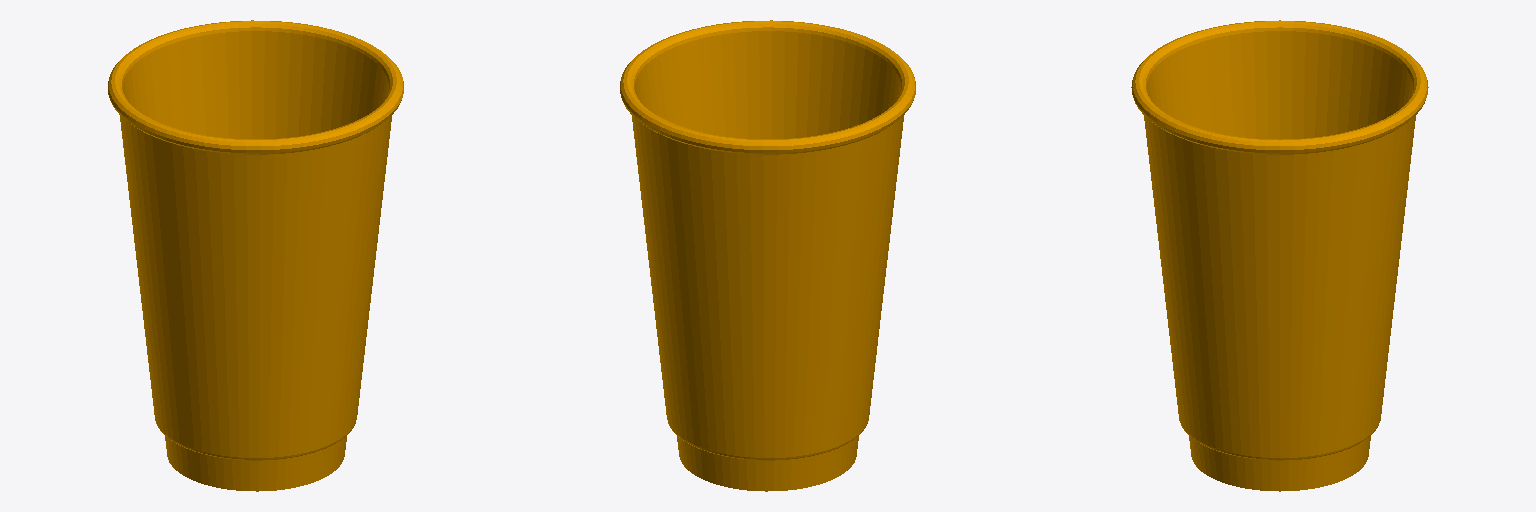
robot.urdf — mesh_object:
<?xml version="1.0" ?>
<robot name="mesh_object">
  <link name="base">
    <visual>
      <geometry>
        <mesh filename="Dixie_cup_0.obj" scale="1 1 1"/>
      </geometry>
    </visual>
    <collision>
      <geometry>
        <mesh filename="Dixie_cup_0.obj" scale="1 1 1"/>
      </geometry>
    </collision>
    <inertial>
      <origin xyz="-0.000002 -0.000412 0.059851" rpy="0 0 0"/>
      <mass value="0.5"/>
      <inertia ixx="0.01" iyy="0.01" izz="0.01" ixy="0" ixz="0" iyz="0"/>
    </inertial>
  </link>
</robot>

--- What the picture shows (computed from the rendered views, not written in the file) ---
The picture shows the robot from 3 angles, left to right: view 1: azimuth 30°, elevation 25°; view 2: azimuth 150°, elevation 25°; view 3: azimuth 270°, elevation 25°; orthographic projection.
Robot: mesh_object — 1 links, 0 joints (none); root link base; default pose: every joint at zero.
Links seen in each view (by area): view 1: base; view 2: base; view 3: base.
Link boxes in pixels (x1,y1,x2,y2): base: [108, 20, 403, 491]; base: [620, 20, 915, 491]; base: [1131, 20, 1428, 491].
Size in the robot's own frame: 0.0863 by 0.0863 by 0.1197 metres.
Meshes: 1 distinct files referenced, 1 mesh visuals loaded (1 OBJ).
